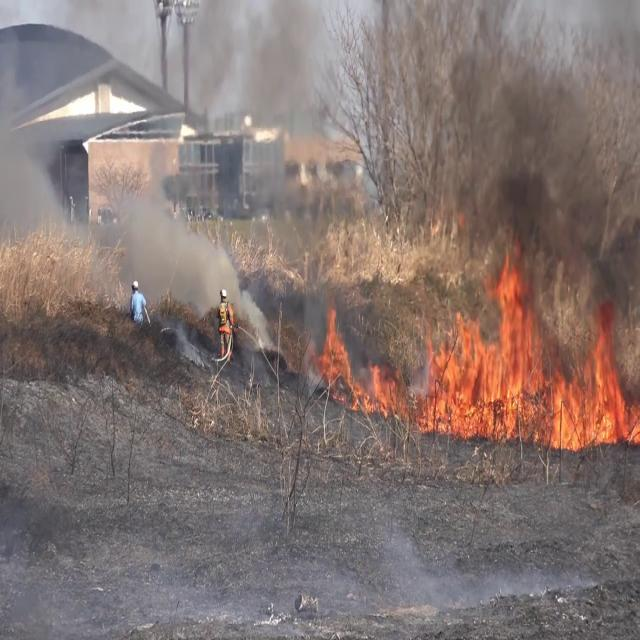Fire: (422, 254, 640, 446), (316, 300, 415, 424)
Smoke: (421, 0, 640, 356), (0, 9, 70, 306), (116, 177, 245, 327)
